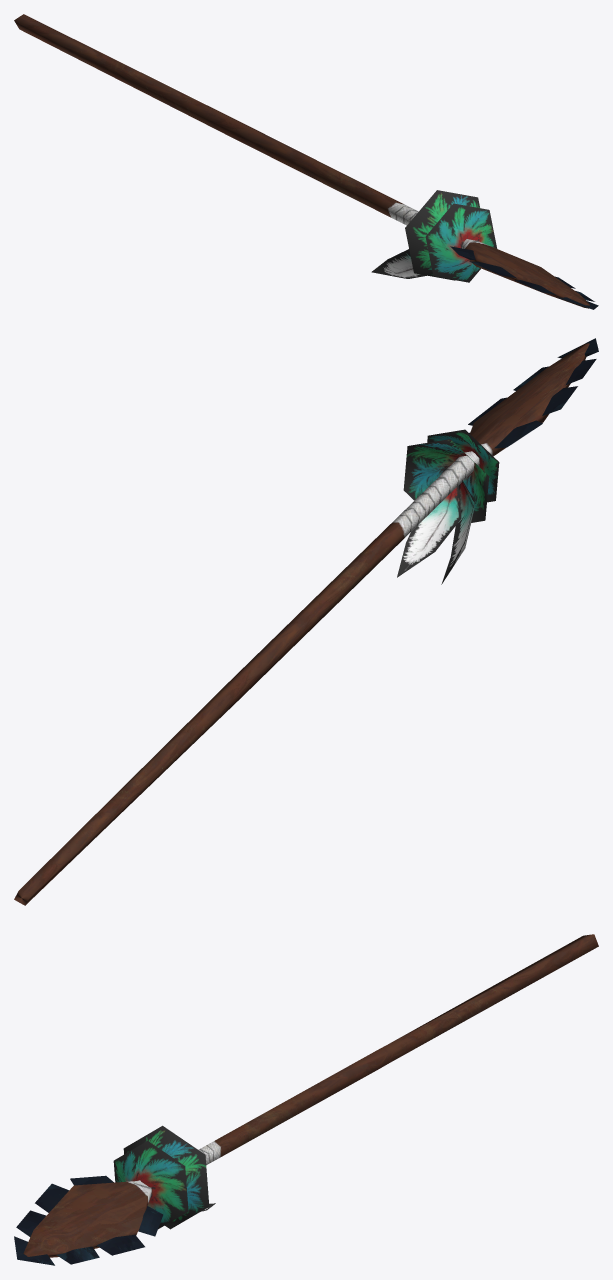
Rendered from weapon-obsidianweapons.glb.
3 views of the same model, one above another, from view 1: azimuth 30°, elevation 25°; view 2: azimuth 150°, elevation 25°; view 3: azimuth 330°, elevation 25° (orthographic). The views are drawn at different scales.
Size of the model in its own units: 0.2232 by 0.3249 by 2.42.
1 material, 1 textured.
